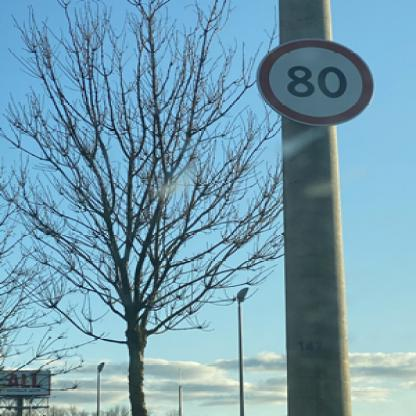Speed Limit 80: (258, 38, 374, 127)
